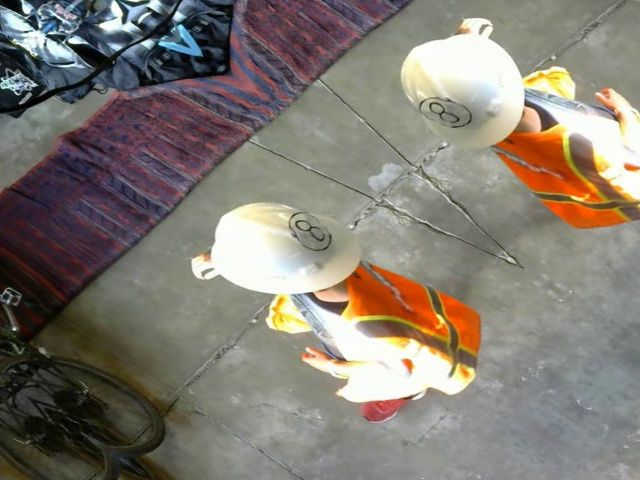eight: (274, 206, 341, 256)
